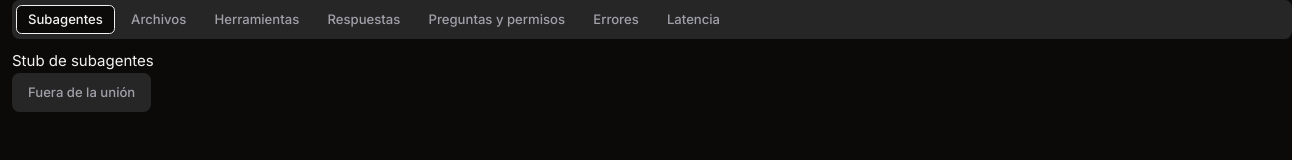
InspectorSectionTabs — frontera hook → pestaña activa (§3/§4) › un id fuera de la unión deja la pestaña en subagents, sin paneles huérfanos ni vacíos
Expected: the tab "Subagentes" is shown, 16,5 -> 115,34
Expected: the panel shows "Stub de subagentes", 12,51 -> 154,70
# Dato inexistente: el id no pertenece a `INSPECTOR_SECTION_TABS`.
Click the tab "Fuera de la unión".
click(82, 92)  # box 16,78 -> 148,106
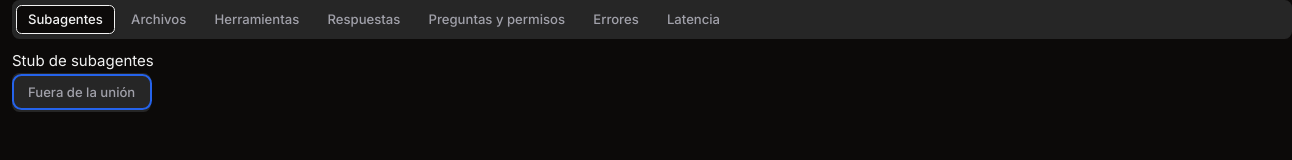
Expected: the tab "Subagentes" is shown, 16,5 -> 115,34
Expected: the panel shows "Stub de subagentes", 12,51 -> 154,70
# Y sigue funcionando: el tablist real conserva su comportamiento.
Click the tab "Herramientas".
click(257, 20)  # box 202,5 -> 311,34
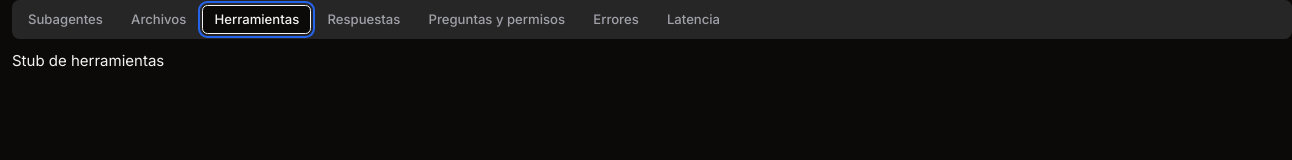
Expected: the panel does not show ""
Expected: the panel reads "Stub de herramientas", 12,51 -> 164,70
